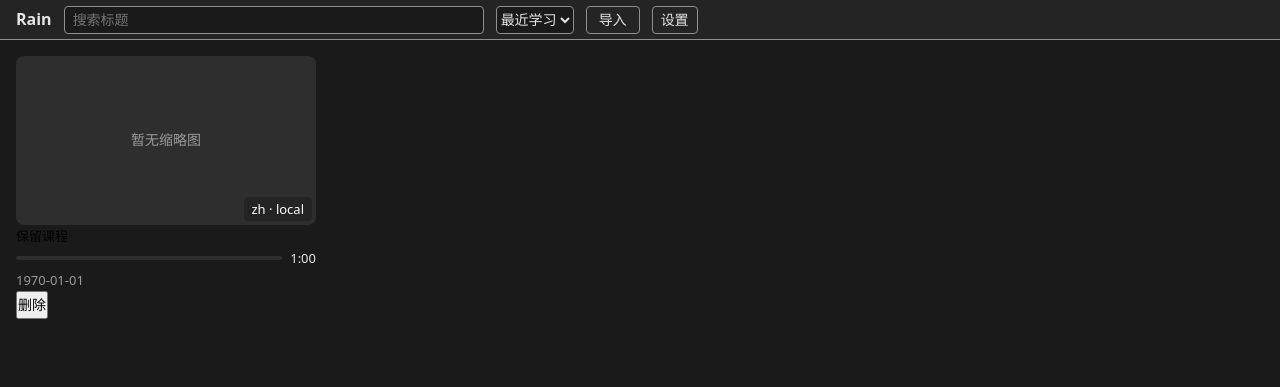
Test case: AC-LV-13 production Video deletion › lets the user cancel deletion without changing the Video
Click the button "删除" at [32, 305], box left=16, top=291, right=48, bottom=319
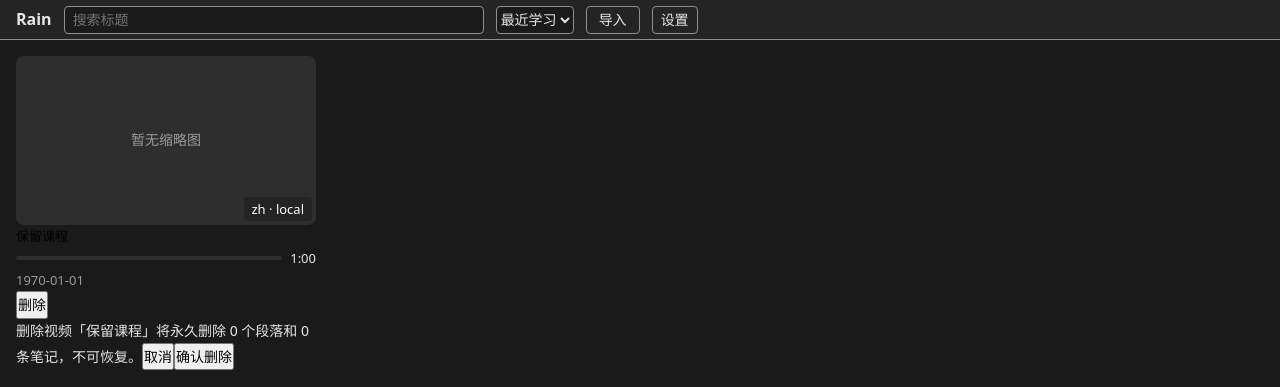
Click the button "取消" at [158, 356], box left=142, top=343, right=174, bottom=370
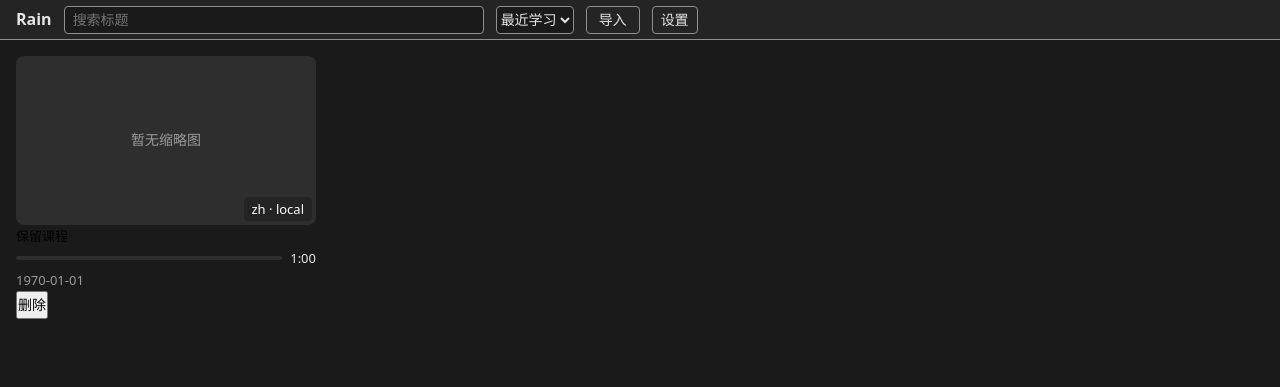
Check: the element with test id "card-keep-me" is shown, box left=16, top=56, right=316, bottom=319
Check: the element with test id "delete-confirm" is gone
